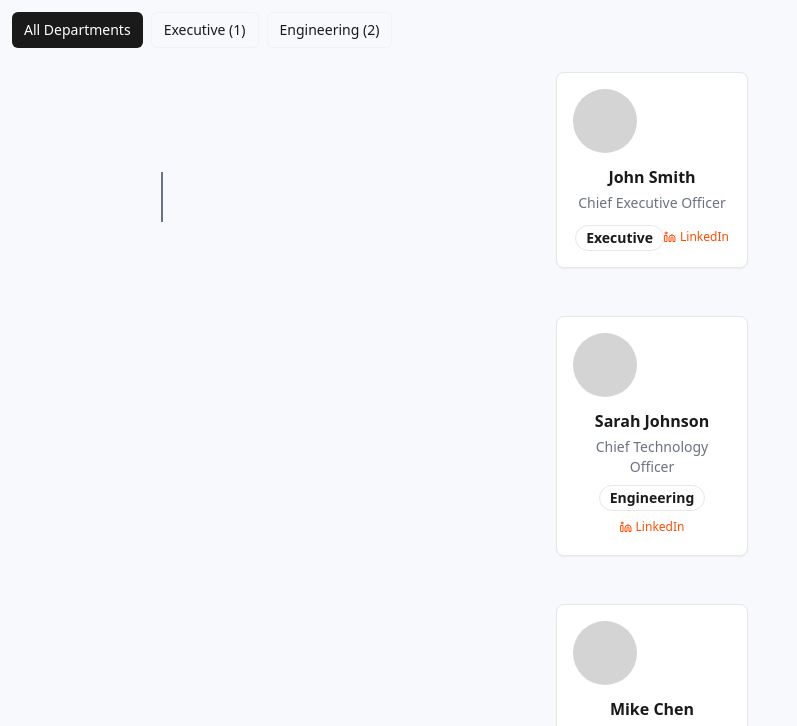
InteractiveOrgChart › displays member details on hover
Hover over the button with test id "member-1" at (652, 170), box [556,72,748,268]
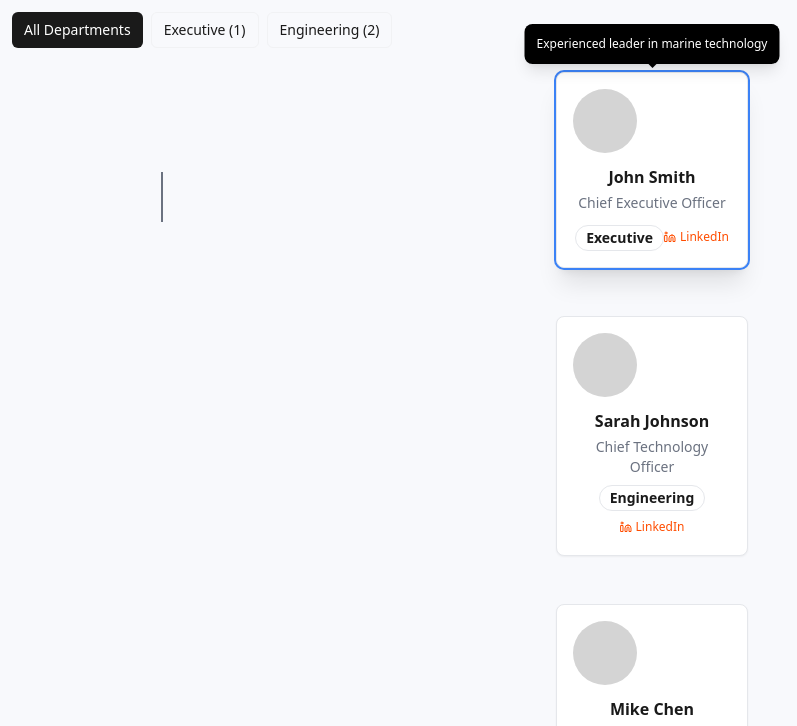
Expected: the text "Experienced leader in marine technology" is shown, [524,24,780,64]
